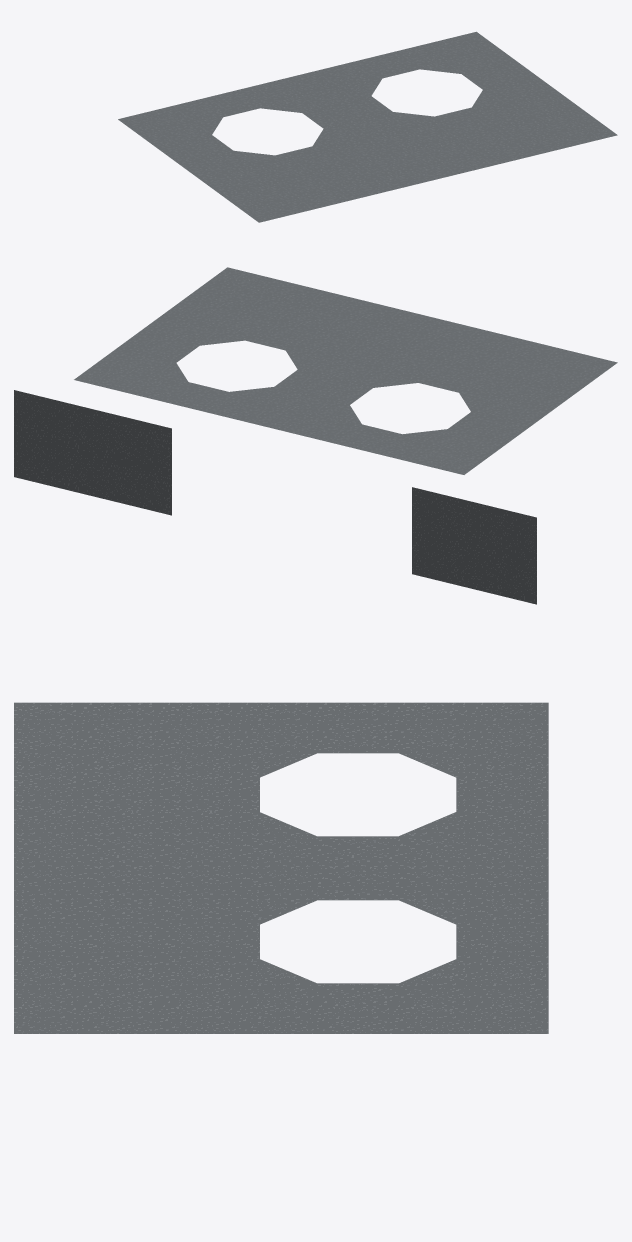
Rendered from kd_stage_135d18_4_88.glb.
3 views of the same model, one above another, from view 1: azimuth 30°, elevation 25°; view 2: azimuth 150°, elevation 25°; view 3: azimuth 270°, elevation 25° (orthographic). The views are drawn at different scales.
Parts seen in each view (by area): view 1: kd_stage_135d18_4_88; view 2: kd_stage_135d18_4_88; view 3: kd_stage_135d18_4_88.
Boxes of the visible parts, x1,y1,x2,y2 form: kd_stage_135d18_4_88: [118, 31, 617, 222]; kd_stage_135d18_4_88: [14, 267, 617, 604]; kd_stage_135d18_4_88: [14, 702, 548, 1033].
Bounding box in the file's own units: 1.07 × 0.18 × 0.6147.
1 material, 1 textured.
